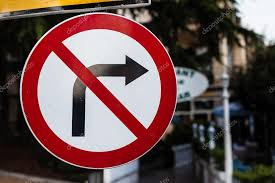No_right_turn: (20, 13, 177, 170)
